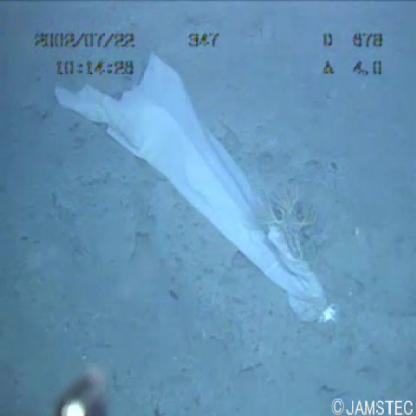Bio: (248, 170, 342, 270)
Rov: (37, 351, 122, 415)
Rác: (31, 32, 346, 330)
